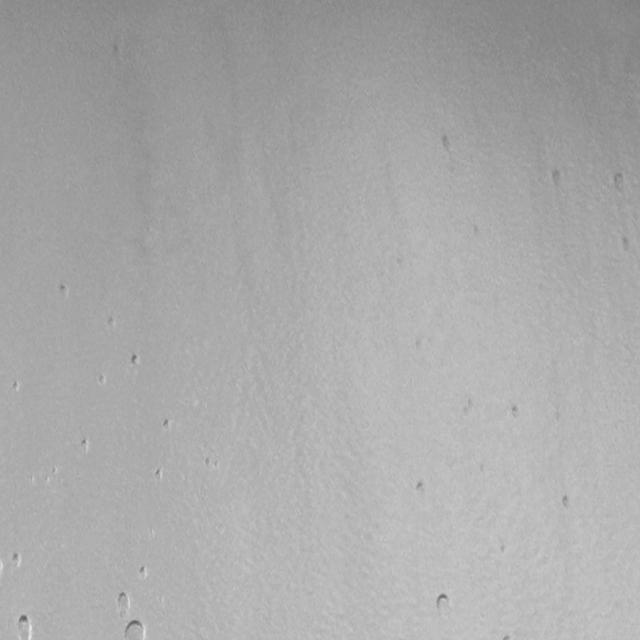pin holes: (610, 170, 632, 200), (121, 615, 146, 640), (432, 593, 454, 621), (14, 612, 35, 640), (548, 166, 568, 191), (412, 477, 432, 502), (460, 395, 479, 420), (113, 593, 131, 617), (558, 490, 577, 512), (438, 133, 455, 154), (508, 403, 524, 423), (619, 234, 634, 255), (56, 283, 71, 302), (80, 437, 94, 456), (498, 541, 509, 564), (11, 550, 24, 568), (153, 466, 166, 484), (128, 354, 142, 370), (136, 566, 149, 583), (160, 416, 173, 433), (203, 455, 217, 470), (11, 378, 24, 394), (107, 314, 120, 329), (96, 372, 107, 388)
